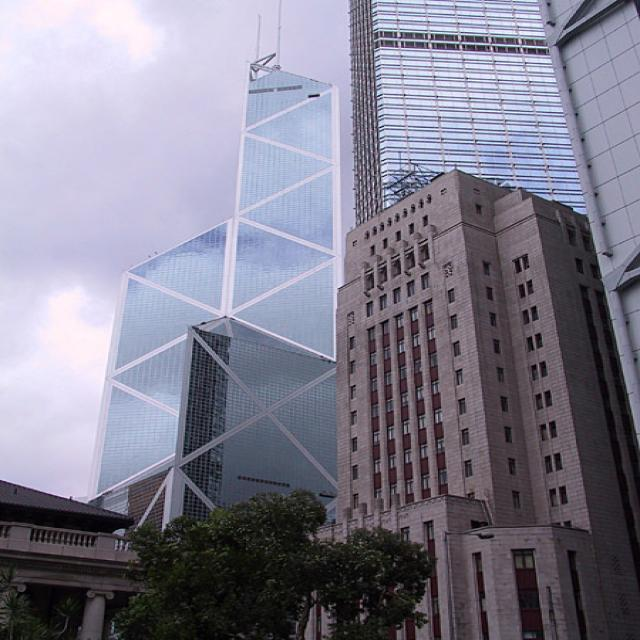building: (90, 0, 347, 640), (341, 168, 640, 640), (352, 0, 640, 462), (0, 477, 141, 640)
